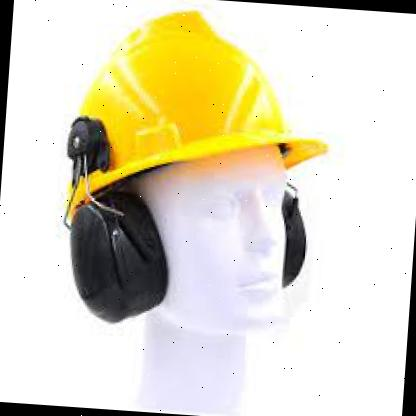abafador_ruido: (48, 182, 320, 342)
capacete: (51, 8, 338, 242)
